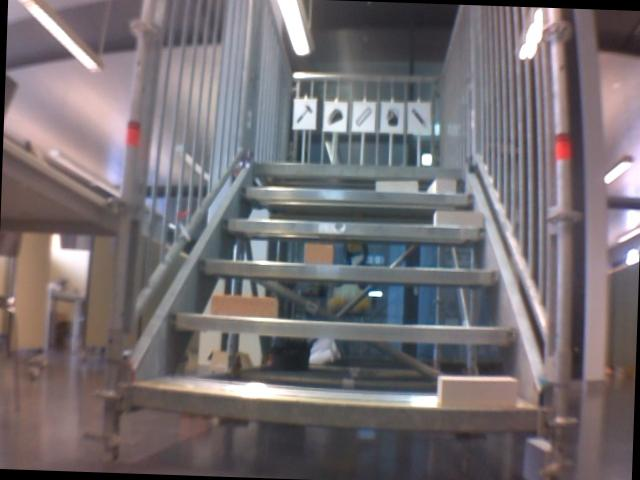brick: (436, 375, 517, 408), (211, 295, 277, 318), (433, 210, 482, 226), (303, 244, 331, 264), (376, 179, 418, 192), (430, 178, 455, 192)
bucket: (382, 106, 400, 127)
edge: (132, 385, 538, 434), (170, 313, 517, 344), (199, 258, 500, 285), (222, 216, 485, 239), (238, 185, 477, 205), (252, 160, 464, 179)
hammer: (291, 101, 313, 126)
pencil: (408, 106, 429, 129)
ruler: (352, 104, 374, 129)
steps: (130, 152, 550, 439)
taco: (325, 105, 344, 126)
